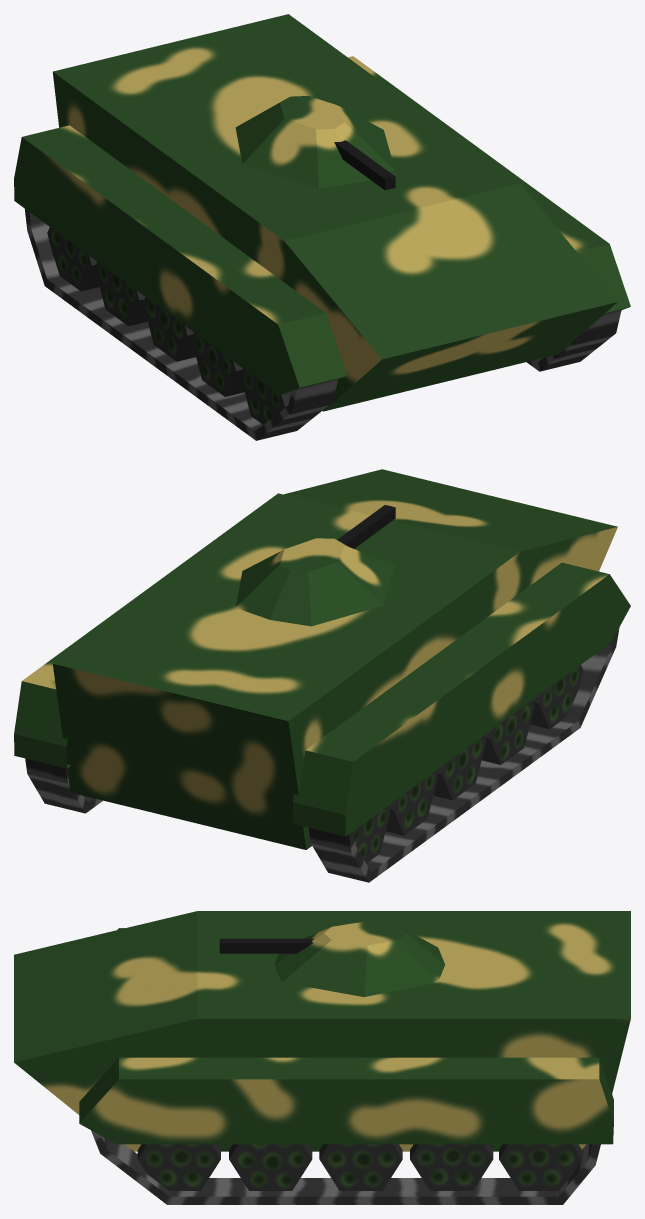
File: bmp1.fbx
3 views of the same model, one above another, from view 1: azimuth 30°, elevation 25°; view 2: azimuth 150°, elevation 25°; view 3: azimuth 270°, elevation 25° (orthographic). The views are drawn at different scales.
Visible parts, largest first — view 1: body, chain, gun_tower; view 2: body, chain, gun_tower; view 3: body, chain, gun_tower.
Boxes of the visible parts, left/top/right/bottom form: body: left=14, top=14, right=630, bottom=411; chain: left=25, top=209, right=621, bottom=440; gun_tower: left=235, top=96, right=395, bottom=190; body: left=14, top=469, right=630, bottom=849; chain: left=25, top=627, right=619, bottom=882; gun_tower: left=235, top=505, right=395, bottom=626; body: left=14, top=911, right=630, bottom=1151; chain: left=91, top=1130, right=600, bottom=1204; gun_tower: left=219, top=921, right=444, bottom=997.
Size of the model in its own units: 859 by 523 by 1480.
